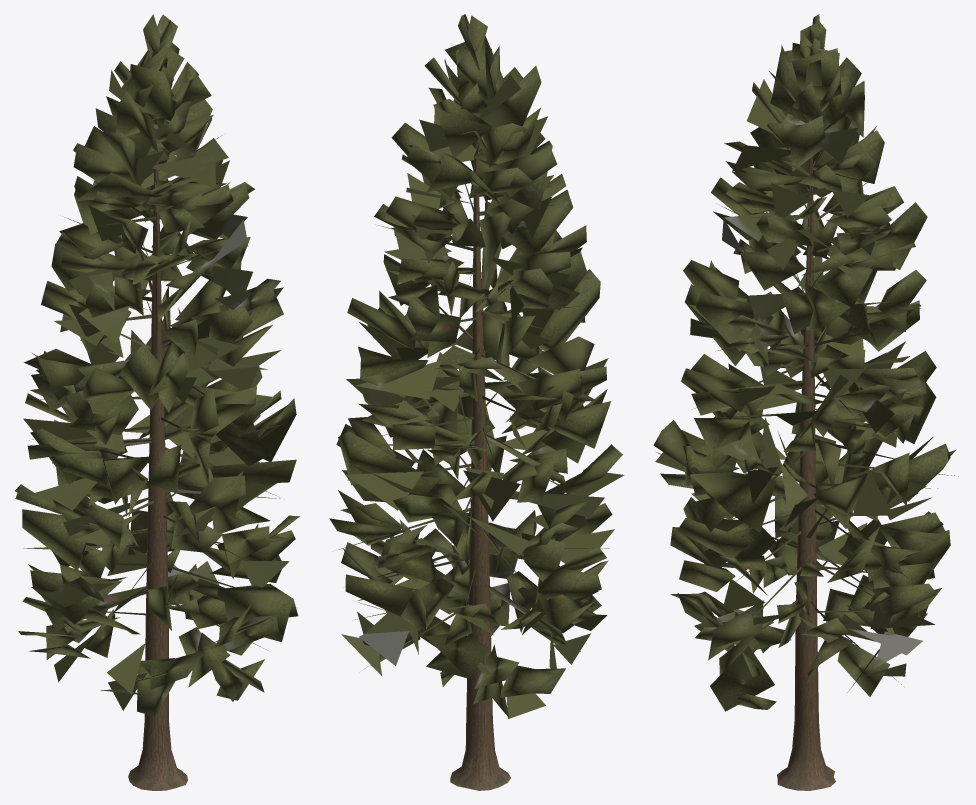
3 renders of one model, left to right at view 1: azimuth 30°, elevation 25°; view 2: azimuth 150°, elevation 25°; view 3: azimuth 270°, elevation 25°, orthographic.
Size of the model in its own units: 0.3242 by 0.9521 by 0.3472.
1 material, 1 textured.
